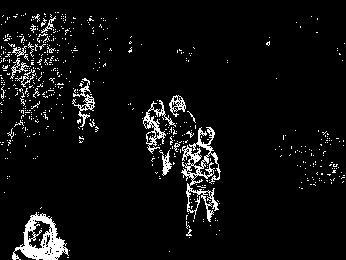person: (183, 126, 220, 237), (142, 98, 176, 178), (70, 77, 100, 143), (167, 94, 195, 154)
